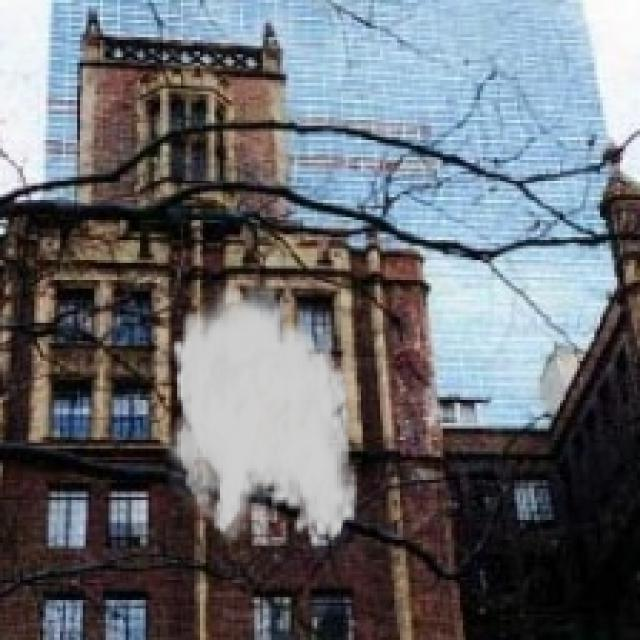smoke: (160, 272, 360, 552)
